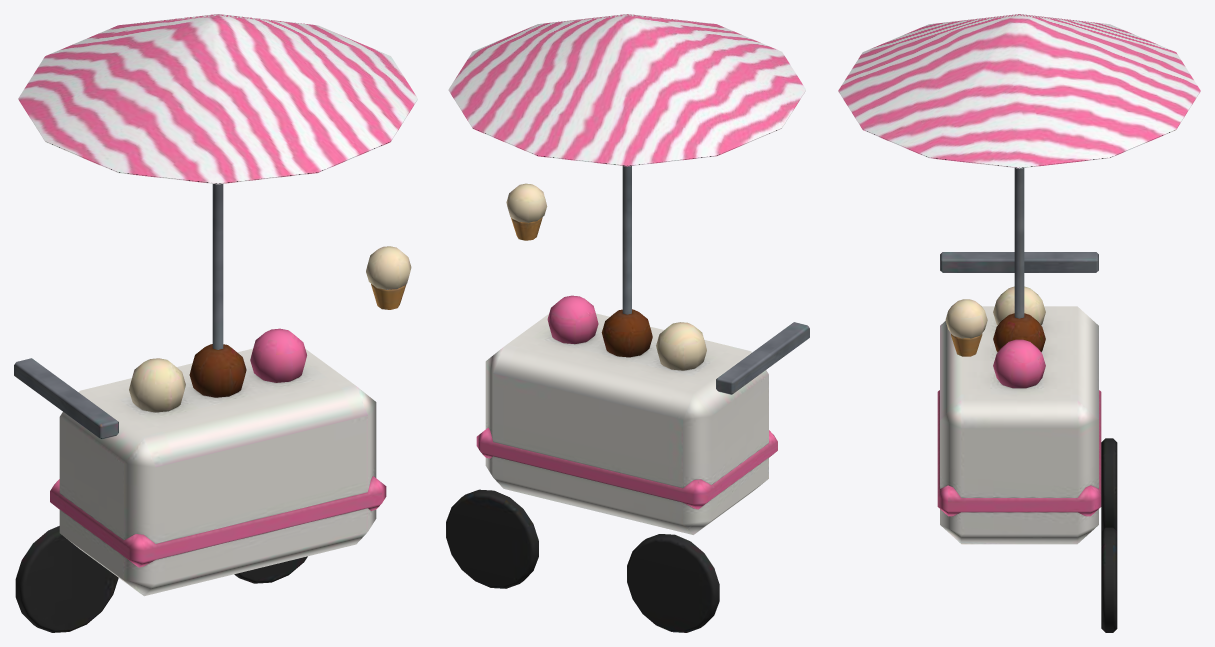
Rendered from ice_cream_cart.glb.
The picture shows the model from 3 angles, left to right: view 1: azimuth 30°, elevation 25°; view 2: azimuth 150°, elevation 25°; view 3: azimuth 270°, elevation 25°; orthographic projection. The views are drawn at different scales.
Parts seen in each view (by area): view 1: ice_cream_cart; view 2: ice_cream_cart; view 3: ice_cream_cart.
Boxes of the visible parts, x1,y1,x2,y2 form: ice_cream_cart: [14, 14, 417, 632]; ice_cream_cart: [446, 14, 809, 632]; ice_cream_cart: [838, 14, 1200, 632].
Size of the model in its own units: 0.685 by 1.17 by 0.685.
1 material, 1 textured.
